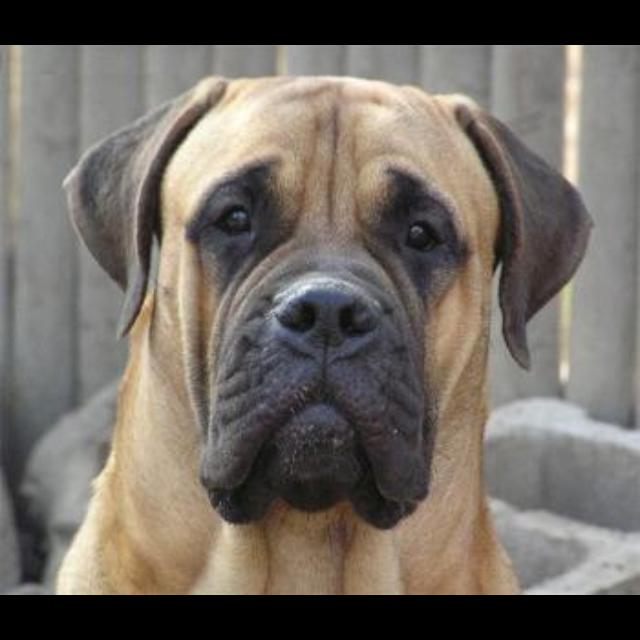bullmastiff: (49, 74, 595, 595)
